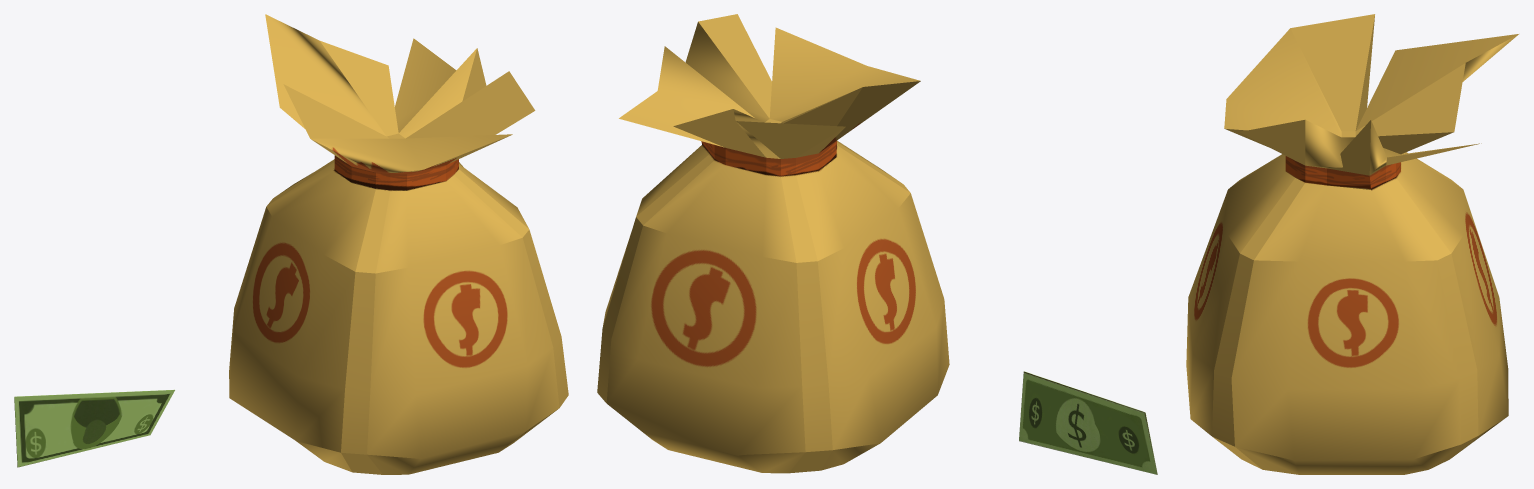
File: tui_tien.fbx
3 renders of one model, left to right at view 1: azimuth 30°, elevation 25°; view 2: azimuth 150°, elevation 25°; view 3: azimuth 270°, elevation 25°, orthographic. The views are drawn at different scales.
Visible parts, largest first — view 1: bag_money, money; view 2: bag_money, money; view 3: bag_money.
Part boxes in pixels (x1=…): bag_money: x1=229, y1=14, x2=568, y2=474; money: x1=14, y1=389, x2=174, y2=467; bag_money: x1=597, y1=14, x2=949, y2=473; money: x1=1019, y1=371, x2=1157, y2=474; bag_money: x1=1186, y1=14, x2=1518, y2=474.
Bounding box in the file's own units: 0.9364 × 0.6675 × 0.5157.
1 material, 1 textured.
